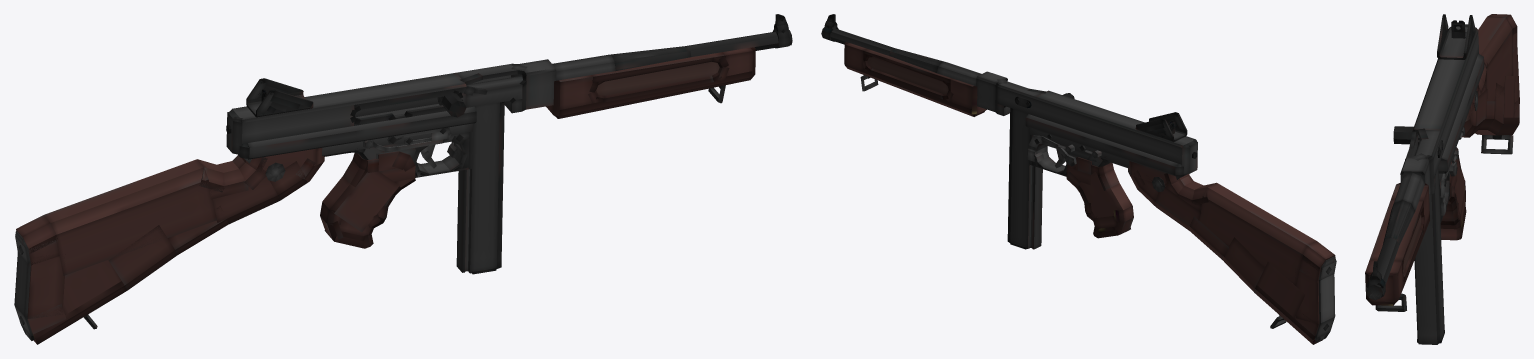
Rendered from M1A1_Thompson.glb.
3 renders of one model, left to right at view 1: azimuth 30°, elevation 25°; view 2: azimuth 150°, elevation 25°; view 3: azimuth 270°, elevation 25°, orthographic. The views are drawn at different scales.
Parts seen in each view (by area): view 1: GeometryNode_5967, GeometryNode_6529, GeometryNode_278, GeometryNode_796, GeometryNode_1216, GeometryNode_5953, GeometryNode_4678, GeometryNode_6051, GeometryNode_5575, GeometryNode_6121, GeometryNode_3261, GeometryNode_5925 (+20 smaller); view 2: GeometryNode_40, GeometryNode_5967, GeometryNode_6529, GeometryNode_278, GeometryNode_6121, GeometryNode_5939, GeometryNode_1216, GeometryNode_5925, GeometryNode_5575, GeometryNode_6051, GeometryNode_3261, GeometryNode_4678 (+14 smaller); view 3: GeometryNode_6641, GeometryNode_1216, GeometryNode_40, GeometryNode_5967, GeometryNode_3037, GeometryNode_6529, GeometryNode_810, GeometryNode_278, GeometryNode_6613, GeometryNode_5939, GeometryNode_5925, GeometryNode_1426 (+37 smaller).
Part boxes in pixels (left/top/right/bottom): GeometryNode_5967: left=55, top=179, right=216, bottom=275; GeometryNode_6529: left=468, top=102, right=499, bottom=273; GeometryNode_278: left=249, top=104, right=476, bottom=158; GeometryNode_796: left=242, top=105, right=354, bottom=143; GeometryNode_1216: left=232, top=72, right=465, bottom=119; GeometryNode_5953: left=51, top=167, right=208, bottom=234; GeometryNode_4678: left=334, top=171, right=399, bottom=232; GeometryNode_6051: left=27, top=254, right=65, bottom=318; GeometryNode_5575: left=108, top=225, right=174, bottom=285; GeometryNode_6121: left=63, top=259, right=121, bottom=314; GeometryNode_3261: left=596, top=61, right=719, bottom=95; GeometryNode_5925: left=44, top=159, right=203, bottom=222; GeometryNode_40: left=997, top=87, right=1182, bottom=164; GeometryNode_5967: left=1199, top=196, right=1302, bottom=285; GeometryNode_6529: left=1010, top=109, right=1032, bottom=248; GeometryNode_278: left=1025, top=117, right=1175, bottom=174; GeometryNode_6121: left=1257, top=262, right=1305, bottom=317; GeometryNode_5939: left=1203, top=187, right=1307, bottom=254; GeometryNode_1216: left=1036, top=90, right=1194, bottom=145; GeometryNode_5925: left=1208, top=183, right=1316, bottom=245; GeometryNode_5575: left=1224, top=237, right=1264, bottom=287; GeometryNode_6051: left=1295, top=269, right=1319, bottom=324; GeometryNode_3261: left=867, top=57, right=948, bottom=93; GeometryNode_4678: left=1079, top=172, right=1117, bottom=217; GeometryNode_6641: left=1415, top=195, right=1437, bottom=344; GeometryNode_1216: left=1414, top=27, right=1475, bottom=133; GeometryNode_40: left=1433, top=30, right=1478, bottom=178; GeometryNode_5967: left=1485, top=29, right=1512, bottom=101; GeometryNode_3037: left=1369, top=199, right=1423, bottom=263; GeometryNode_6529: left=1415, top=168, right=1444, bottom=340; GeometryNode_810: left=1441, top=54, right=1483, bottom=160; GeometryNode_278: left=1438, top=58, right=1484, bottom=171; GeometryNode_6613: left=1431, top=193, right=1440, bottom=344; GeometryNode_5939: left=1481, top=17, right=1512, bottom=66; GeometryNode_5925: left=1478, top=16, right=1505, bottom=54; GeometryNode_1426: left=1440, top=31, right=1466, bottom=59.
Bounding box in the file's own units: 2.57 × 0.7699 × 0.4812.
Materials: 1 (1 with a texture image).
